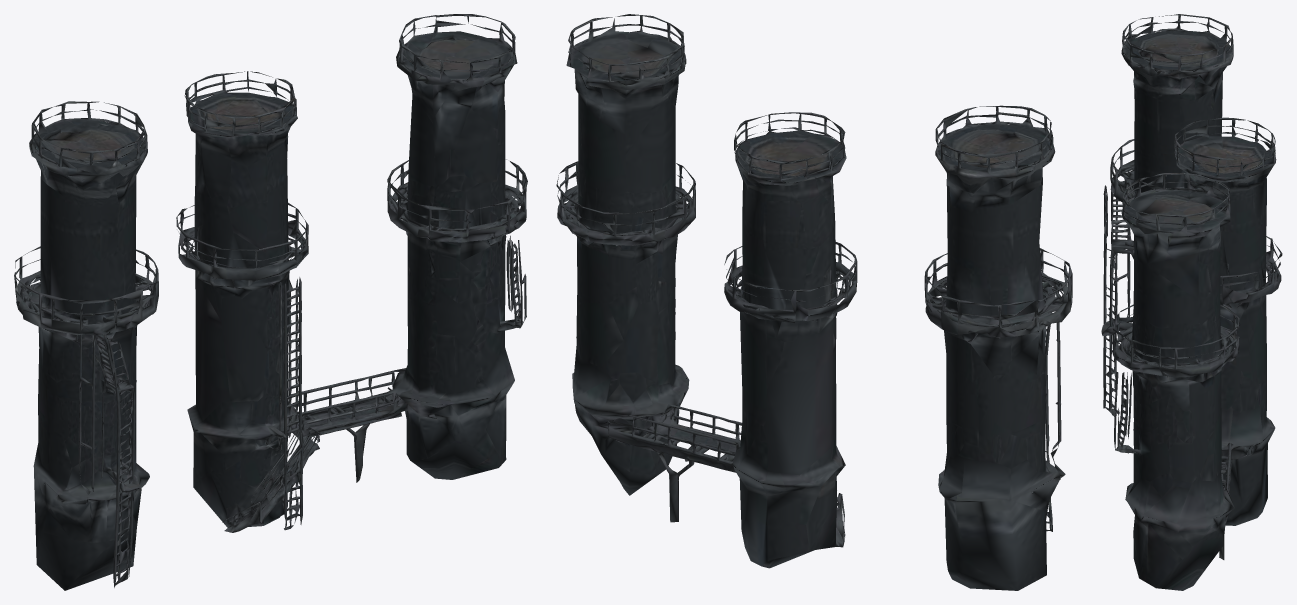
The model's file is heatsink_thermalSmokestacks.f7a75986.glb.
3 views of the same model, side by side, from view 1: azimuth 30°, elevation 25°; view 2: azimuth 150°, elevation 25°; view 3: azimuth 270°, elevation 25° (orthographic). The views are drawn at different scales.
Bounding box in the file's own units: 1.86 × 1.6 × 0.6592.
Materials: 1 (1 with a texture image).
